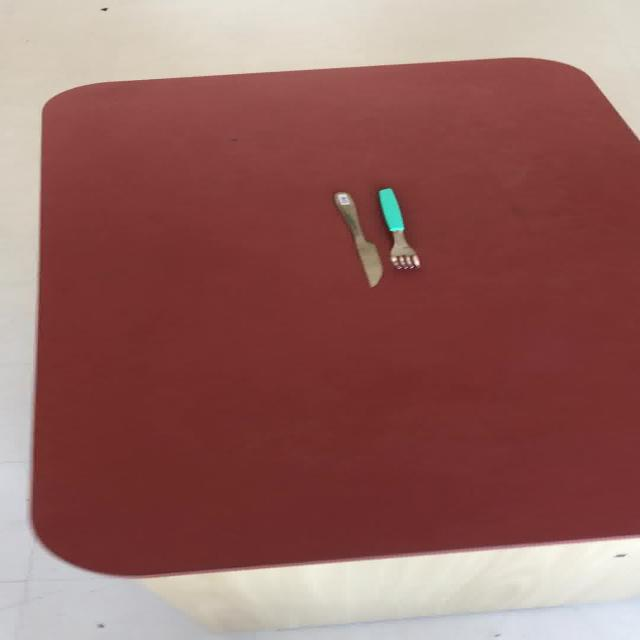fork: (376, 186, 420, 269)
knife fork: (331, 191, 382, 287)
